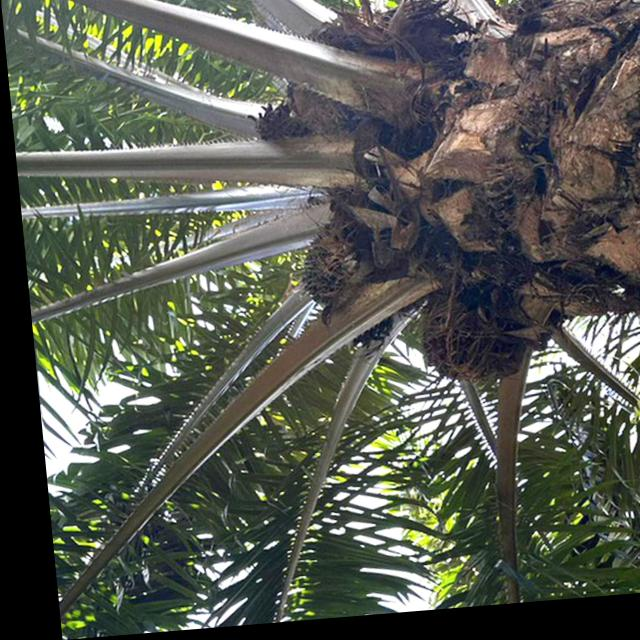unripe: (282, 220, 401, 329)
